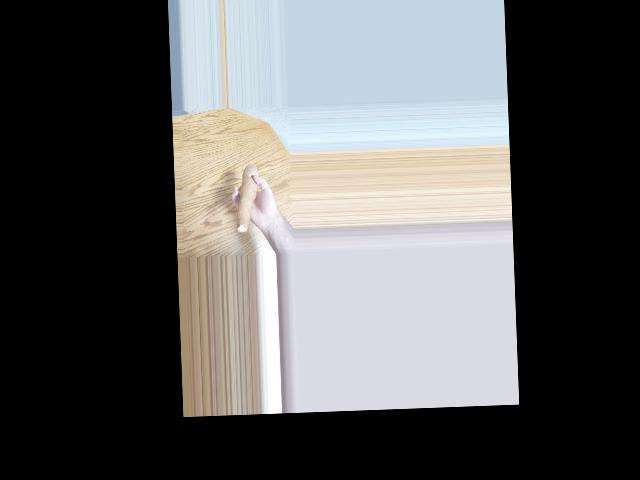sweet_potato: (233, 161, 257, 238)
